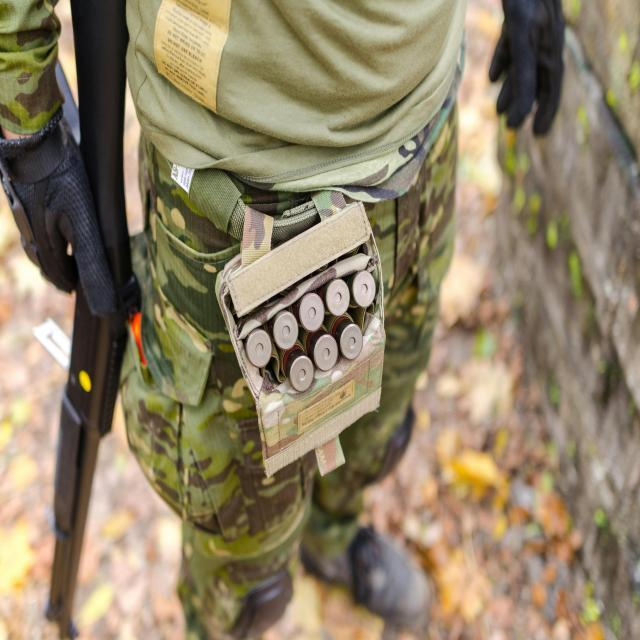Gun: (50, 291, 127, 635), (70, 0, 132, 287)
